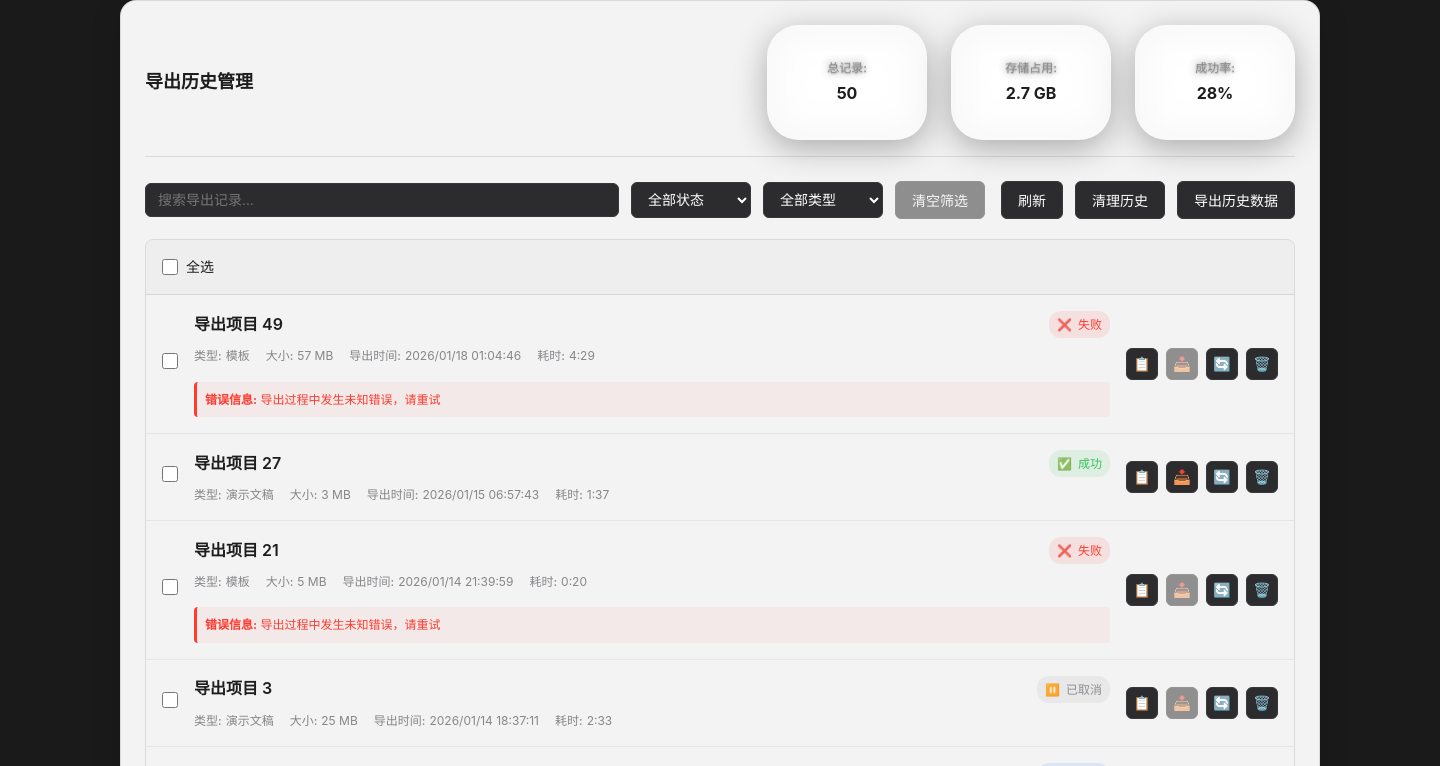
Test: ExportHistoryManager.vue › 搜索和过滤 › 应该支持文本搜索
Type "导出项目 1" into the field with class "search-input" at (382, 200), box x1=145 y1=183 x2=619 y2=217
(page scrolled)
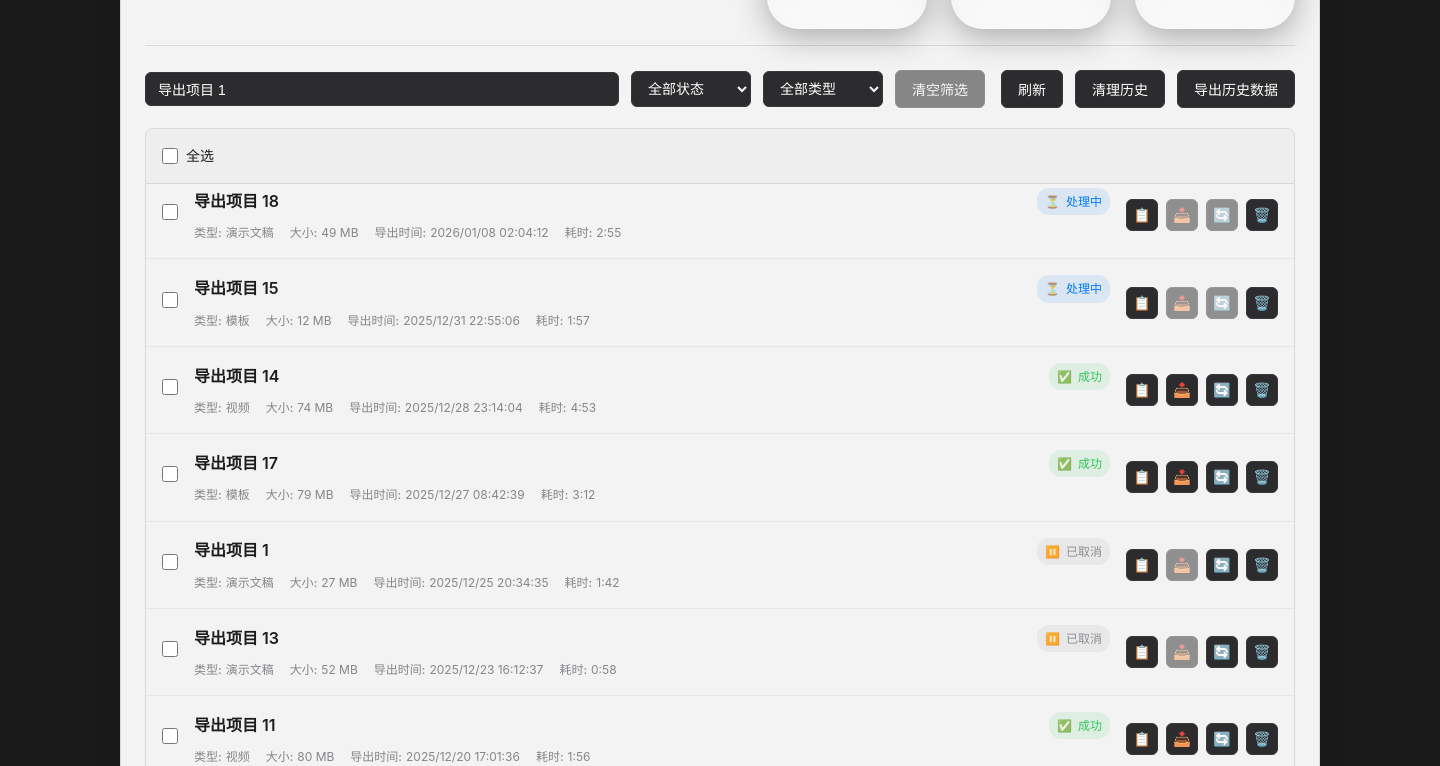
Expected: the text "导出项目 1" is shown, x1=194 y1=538 x2=269 y2=564
